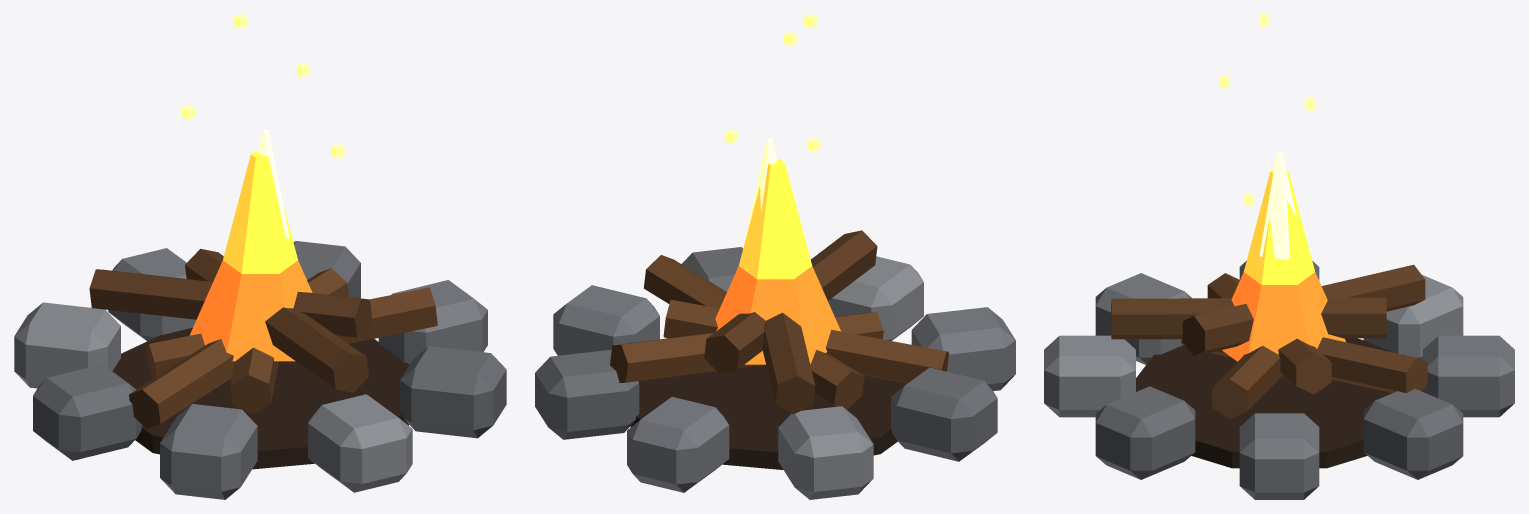
The model's file is campfire.glb.
3 renders of one model, left to right at view 1: azimuth 30°, elevation 25°; view 2: azimuth 150°, elevation 25°; view 3: azimuth 270°, elevation 25°, orthographic. The views are drawn at different scales.
Visible parts, largest first — view 1: campfire; view 2: campfire; view 3: campfire.
Boxes of the visible parts, box(x1,y1,x2,y2) form: campfire: box(14, 14, 506, 499); campfire: box(535, 14, 1015, 499); campfire: box(1044, 14, 1514, 499).
Size of the model in its own units: 1.54 by 1.37 by 1.54.
